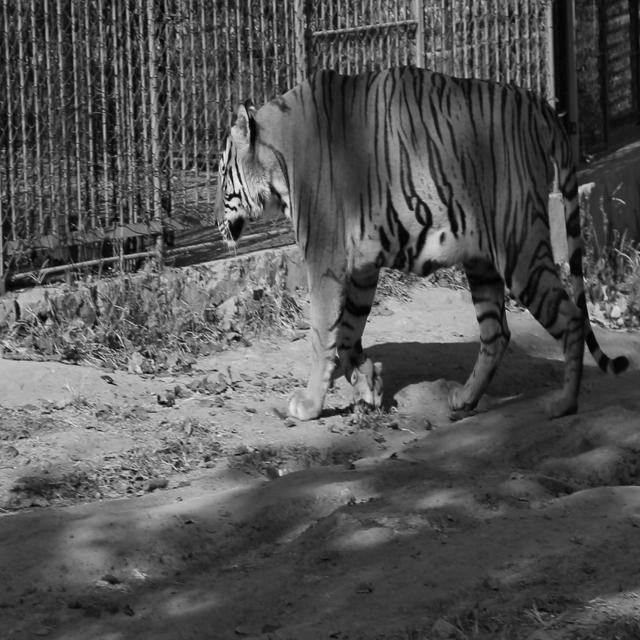Tiger: (213, 63, 629, 424)
